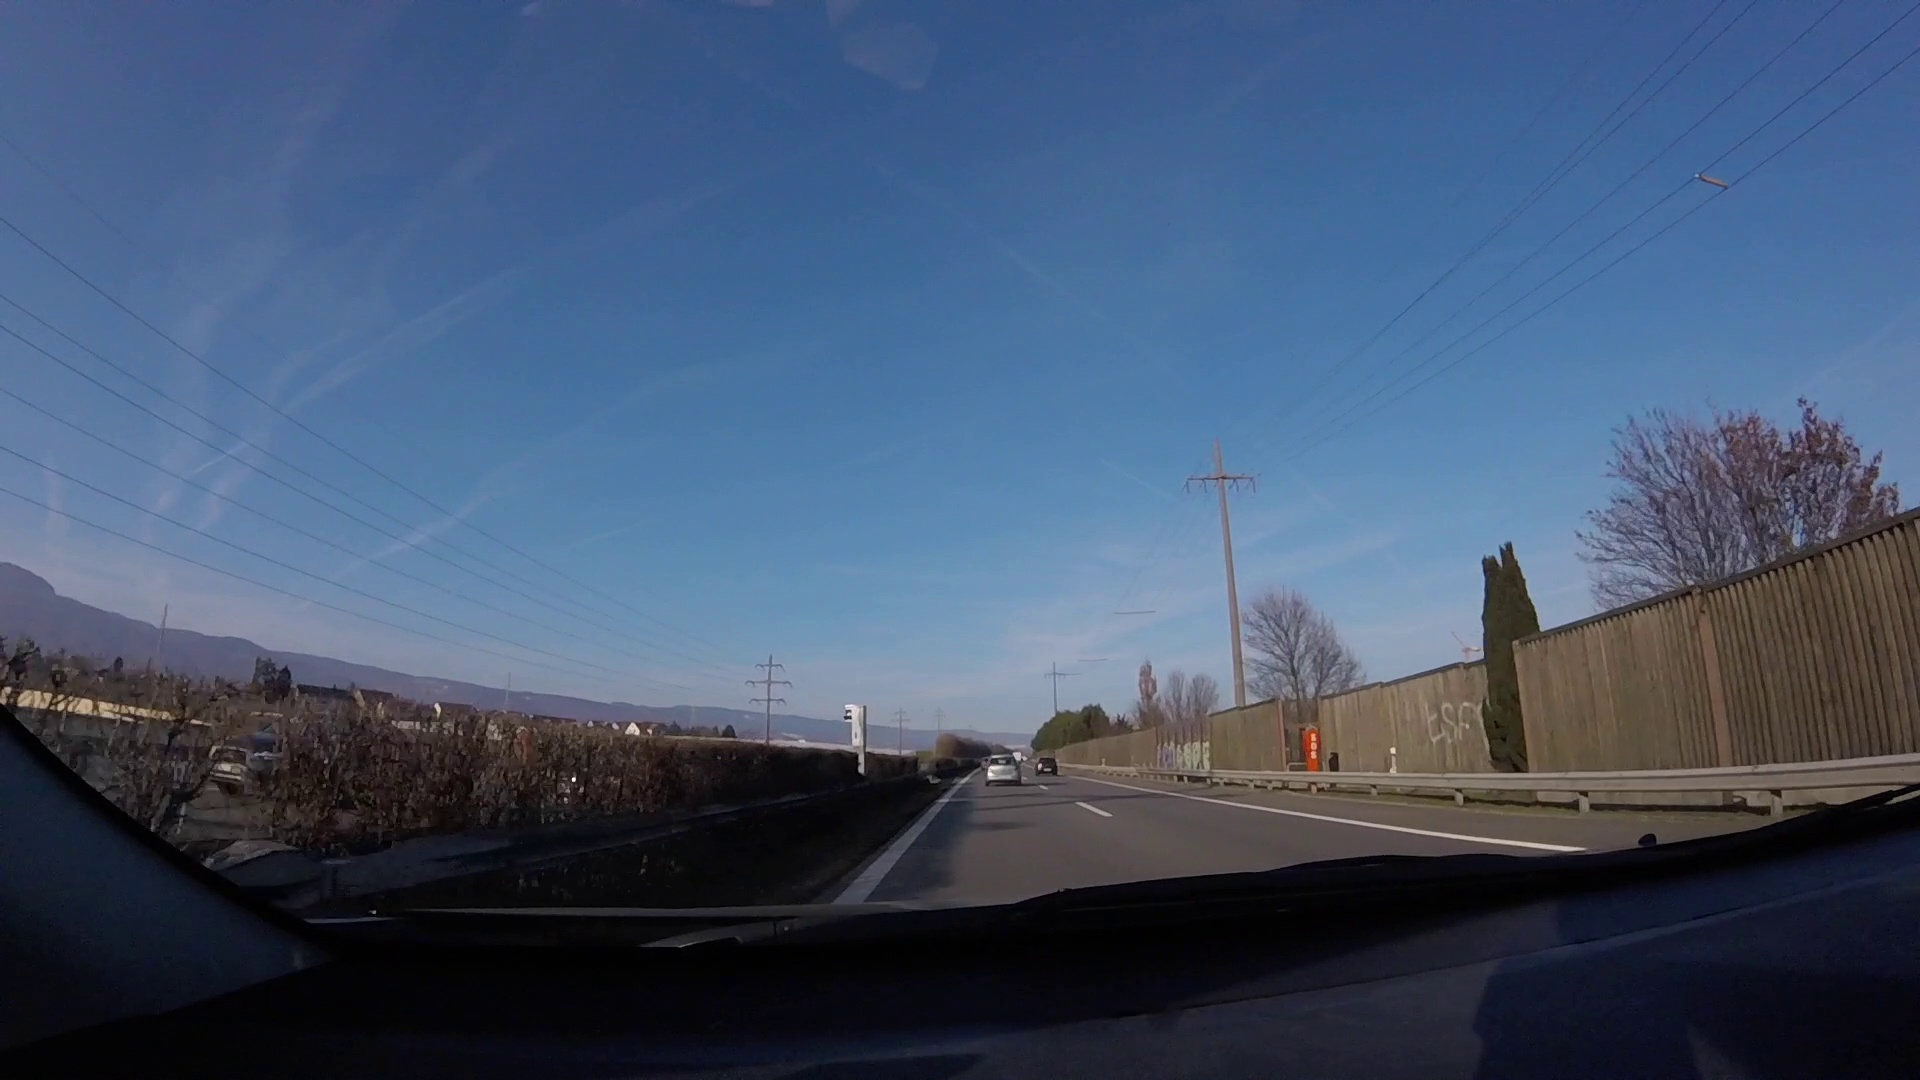radar: (843, 703, 870, 778)
